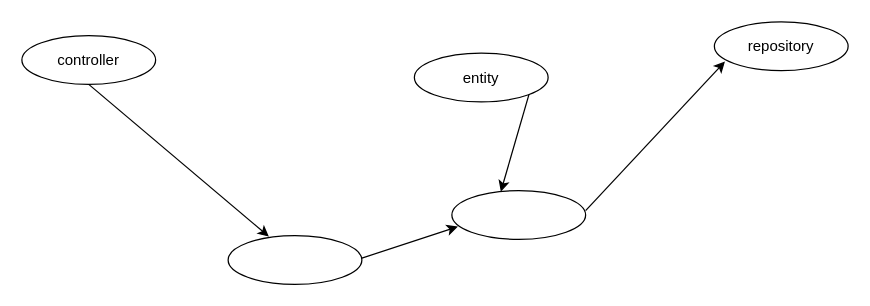
This 870x306 diagram has some shape labels left out. The centre of each missing label's shape, as x and y in pixels:
service: point 294,259
serviceImpl: point 518,214
